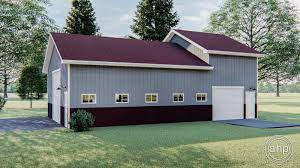Tin-shade House: (39, 19, 268, 128)
